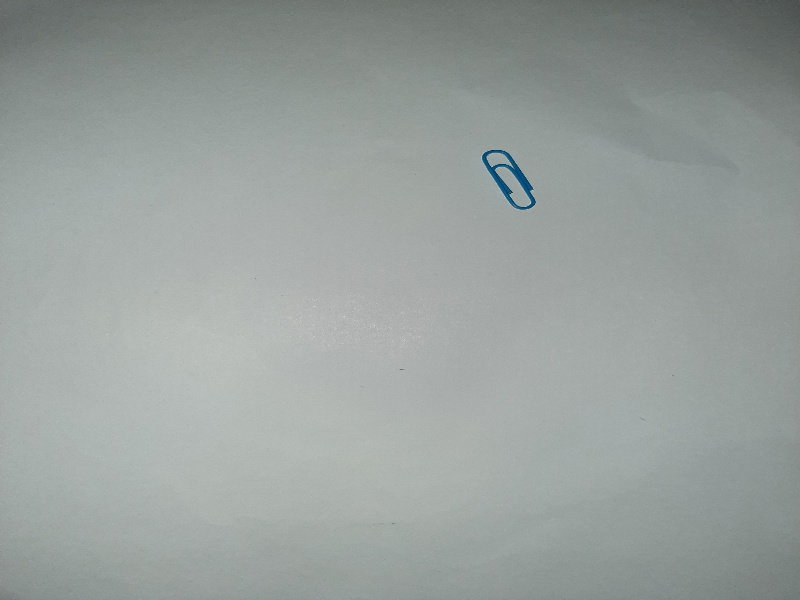Small Jumpclip: (475, 141, 541, 218)
